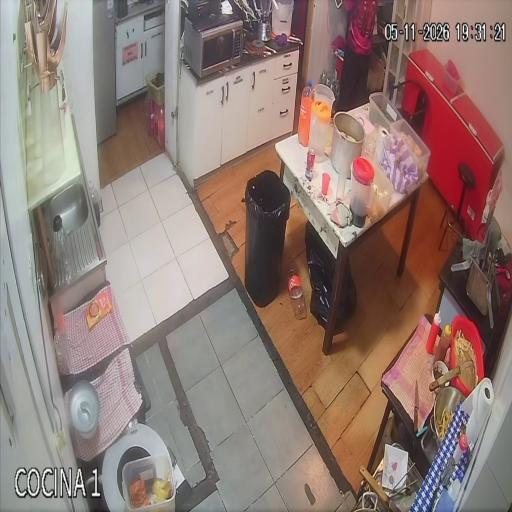Basurero: (245, 170, 290, 307)
Cuchillo1: (414, 380, 419, 433)
Envase Ketchup: (427, 313, 441, 354)
Envase Llajua: (434, 326, 451, 362)
Jarra1: (350, 157, 374, 227)
Jarra2: (309, 100, 332, 160)
Jarra3: (314, 84, 334, 106)
JarraLicuadora: (52, 215, 71, 283)
Microondas: (184, 15, 243, 77)
Tapa de olla: (68, 381, 100, 439)
Taper: (122, 454, 175, 512)
Taper2: (369, 93, 402, 130)
Taper3: (387, 119, 430, 177)
Taper4: (367, 160, 395, 221)
Vaso1: (322, 173, 330, 195)
olla1: (331, 111, 365, 178)
